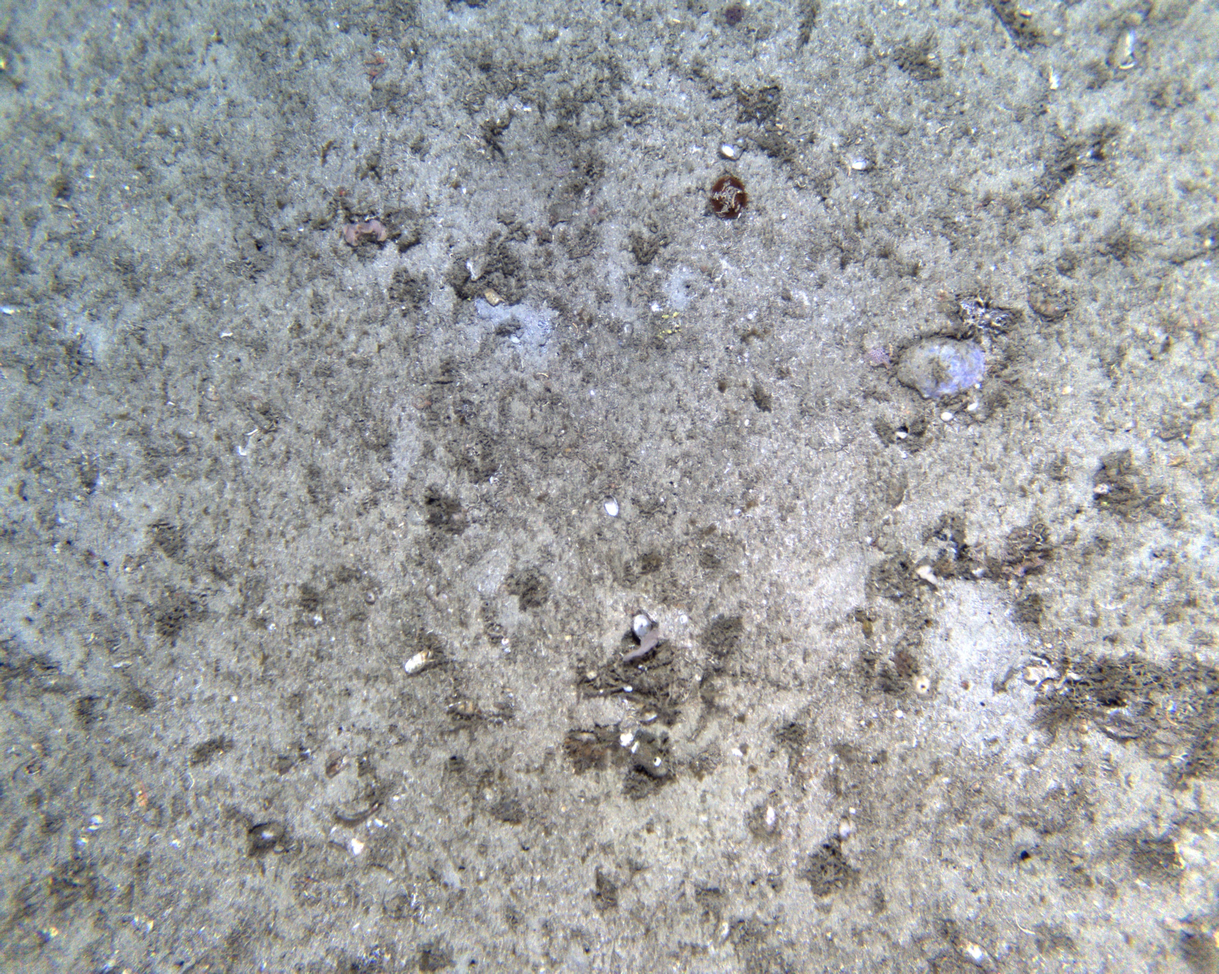Brachionichthyidae: (617, 624, 669, 664)
